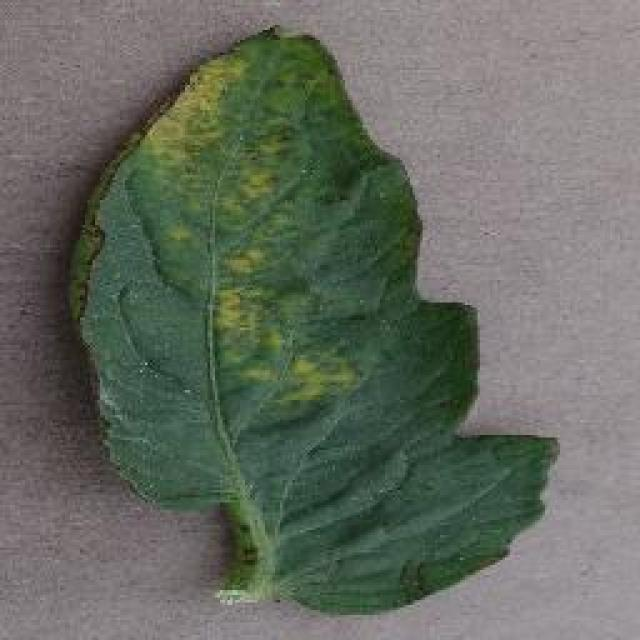Tomato___Bacterial_spot: (59, 25, 564, 620)
